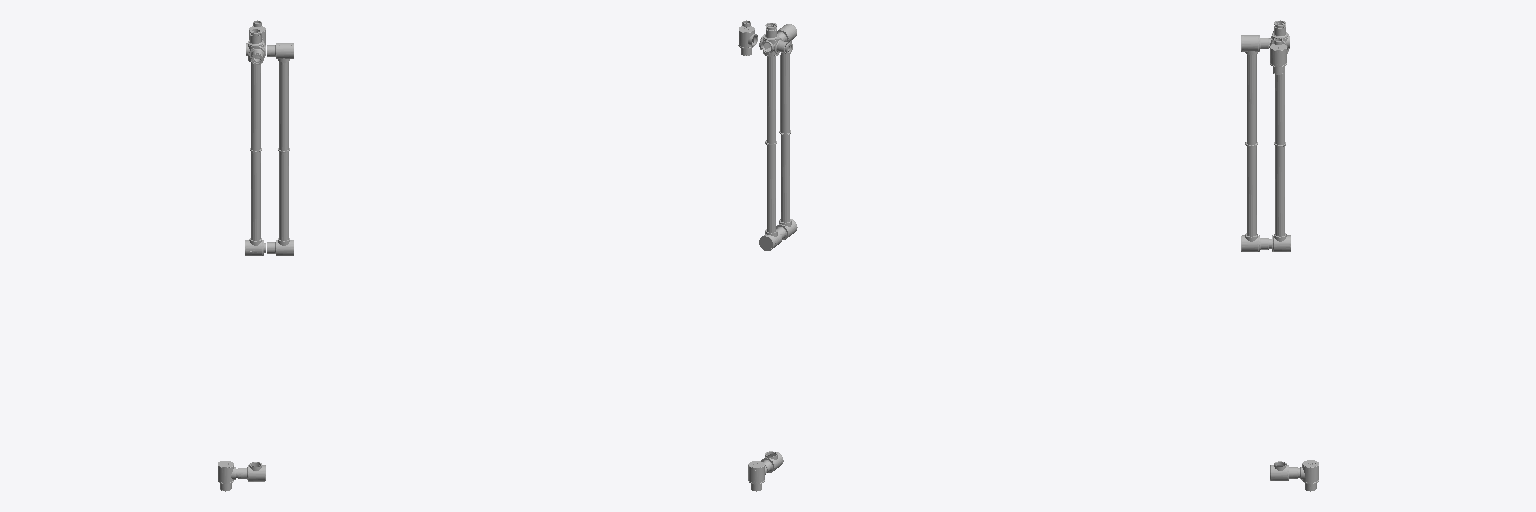
The robot description file, URDF, robot "urdf0":
<?xml version="1.0" encoding="utf-8"?>
<!-- This URDF was automatically created by SolidWorks to URDF Exporter! Originally created by Stephen Brawner ([email redacted]) 
     Commit Version: 1.6.0-4-g7f85cfe  Build Version: 1.6.7995.38578
     For more information, please see http://wiki.ros.org/sw_urdf_exporter -->
<robot
  name="urdf0">
  <link
    name="base_link">
    <!-- <inertial>
      <origin
        xyz="8.72986299132619E-06 0.000110535562543035 0.0443842390944278"
        rpy="0 0 0" />
      <mass
        value="5.02870680905452" />
      <inertia
        ixx="0.0167806415192983"
        ixy="2.58690759696259E-06"
        ixz="-9.70880165009334E-07"
        iyy="0.0168131920532754"
        iyz="-1.22930663997648E-05"
        izz="0.0284237575746704" />
    </inertial> -->
    <visual>
      <origin
        xyz="0 0 0"
        rpy="0 0 0" />
      <geometry>
        <mesh
          filename="package://urdf0/meshes/base_link.STL" />
      </geometry>
      <material
        name="">
        <color
          rgba="0.752941176470588 0.752941176470588 0.752941176470588 1" />
      </material>
    </visual>
    <collision>
      <origin
        xyz="0 0 0"
        rpy="0 0 0" />
      <geometry>
        <mesh
          filename="package://urdf0/meshes/base_link.STL" />
      </geometry>
    </collision>
  </link>
  <link
    name="link_1">
    <inertial>
      <origin
        xyz="-2.04097438563936E-05 0.011301551101616 0.0655223391033291"
        rpy="0 0 0" />
      <mass
        value="55.7444455513422" />
      <inertia
        ixx="0.727810823126991"
        ixy="-6.08303990712885E-06"
        ixz="-2.12903061832592E-07"
        iyy="0.927554282928872"
        iyz="0.0220552256243774"
        izz="1.04521065780087" />
    </inertial>
    <visual>
      <origin
        xyz="0 0 0"
        rpy="0 0 0" />
      <geometry>
        <mesh
          filename="package://urdf0/meshes/Link1.STL" />
      </geometry>
      <material
        name="">
        <color
          rgba="0.752941176470588 0.752941176470588 0.752941176470588 1" />
      </material>
    </visual>
    <collision>
      <origin
        xyz="0 0 0"
        rpy="0 0 0" />
      <geometry>
        <mesh
          filename="package://urdf0/meshes/Link1.STL" />
      </geometry>
    </collision>
  </link>
  <joint
    name="joint1"
    type="continuous">
    <origin
      xyz="0 0 0.3645"
      rpy="3.1416 0 0" />
    <parent
      link="base_link" />
    <child
      link="link_1" />
    <axis
      xyz="0 0 1" />
    <hardware id="0" type="driver">
            <limit lower="-0.0001" upper="0.0001"  vel="3.0" acc="10.0" jerk="150.0" effort="30.0"/>
            <transform ratio="1.0" offset_pos_cnt="-[number redacted]" cnt_per_unit="140184287.42160" torque_per_unit="1.0"
                       user_unit_name="rad"/>
             <inputs name="Inputs">
                <status_word>Statusword</status_word>
                <position_actual_value>Position actual value</position_actual_value>
                <velocity_actual_value>Velocity actual value</velocity_actual_value>
                <torque_actual_value>Torque actual value</torque_actual_value>
                <load_torque_value>Analog Input 1</load_torque_value>
                <secondary_position_value>Auxiliary position actual value</secondary_position_value>
                <secondary_velocity_value>Secondary velocity value</secondary_velocity_value>
            </inputs>
            <outputs name="Outputs">
                <control_word>Controlword</control_word>
                <mode_of_operation>Modes of operation</mode_of_operation>
                <target_position>Target position</target_position>
                <target_velocity>Target velocity</target_velocity>
                <target_torque>Target torque</target_torque>
            </outputs>        
        </hardware>
  </joint>
  <link
    name="link_2">
    <inertial>
      <origin
        xyz="1.2631017255465E-05 -0.00998695022675111 0.099695434986445"
        rpy="0 0 0" />
      <mass
        value="63.0188095750657" />
      <inertia
        ixx="0.765163850790187"
        ixy="4.97111083556097E-06"
        ixz="5.24185415367775E-06"
        iyy="0.964838451945914"
        iyz="-0.0220552256243779"
        izz="1.11446804310499" />
    </inertial>
    <visual>
      <origin
        xyz="0 0 0"
        rpy="0 0 0" />
      <geometry>
        <mesh
          filename="package://urdf0/meshes/Link2.STL" />
      </geometry>
      <material
        name="">
        <color
          rgba="0.752941176470588 0.752941176470588 0.752941176470588 1" />
      </material>
    </visual>
    <collision>
      <origin
        xyz="0 0 0"
        rpy="0 0 0" />
      <geometry>
        <mesh
          filename="package://urdf0/meshes/Link2.STL" />
      </geometry>
    </collision>
  </link>
  <joint
    name="joint2"
    type="continuous">
    <origin
      xyz="0 0.6115 0"
      rpy="1.5708 0 0" />
    <parent
      link="link_1" />
    <child
      link="link_2" />
    <axis
      xyz="0 0 1" />
    <hardware id="1" type="driver">
            <!-- <limit lower="-2.22" upper="2.22" vel="3.0" acc="10.0" jerk="150.0" effort="30.0" /> -->
            <!-- <transform ratio="1.0" offset_pos_cnt="6179790" cnt_per_unit="140184287.42160" torque_per_unit="1.0" user_unit_name="rad"/> -->
            <limit lower="-0.001" upper="0.001" vel="3.0" acc="10.0" jerk="150.0" effort="30.0" />
            <transform ratio="1.0" offset_pos_cnt="14293200" cnt_per_unit="140184287.42160" torque_per_unit="1.0" user_unit_name="rad"/>
            <inputs name="Inputs">
                <status_word>Statusword</status_word>
                <position_actual_value>Position actual value</position_actual_value>
                <velocity_actual_value>Velocity actual value</velocity_actual_value>
                <torque_actual_value>Torque actual value</torque_actual_value>
                <load_torque_value>Analog Input 1</load_torque_value>
                <secondary_position_value>Auxiliary position actual value</secondary_position_value>
                <secondary_velocity_value>Secondary velocity value</secondary_velocity_value>
            </inputs>
            <outputs name="Outputs">
                <control_word>Controlword</control_word>
                <mode_of_operation>Modes of operation</mode_of_operation>
                <target_position>Target position</target_position>
                <target_velocity>Target velocity</target_velocity>
                <target_torque>Target torque</target_torque>
            </outputs>  
        </hardware>
  </joint>
  <link
    name="link_3">
    <inertial>
      <origin
        xyz="7.95950088592247E-05 -0.00352653187066096 -2.49589544552404"
        rpy="0 0 0" />
      <mass
        value="212.870919787655" />
      <inertia
        ixx="27.5783375000673"
        ixy="0.00110729799537331"
        ixz="0.000240364566676525"
        iyy="28.0743279332976"
        iyz="9.78461217462477E-05"
        izz="2.97692676274956" />
    </inertial>
    <visual>
      <origin
        xyz="0 0 0"
        rpy="0 0 0" />
      <geometry>
        <mesh
          filename="package://urdf0/meshes/Link3.STL" />
      </geometry>
      <material
        name="">
        <color
          rgba="0.752941176470588 0.752941176470588 0.752941176470588 1" />
      </material>
    </visual>
    <collision>
      <origin
        xyz="0 0 0"
        rpy="0 0 0" />
      <geometry>
        <mesh
          filename="package://urdf0/meshes/Link3.STL" />
      </geometry>
    </collision>
  </link>
  <joint
    name="joint3"
    type="continuous">
    <origin
      xyz="0 -5.0815 0"
      rpy="1.5708 0 0" />
    <parent
      link="link_2" />
    <child
      link="link_3" />
    <axis
      xyz="0 0 -1" />
    <hardware id="2" type="driver">
            <limit lower="-0.0001" upper="0.0001" vel="3.0" acc="10.0" jerk="150.0" effort="30.0" />
            <transform ratio="1.0" offset_pos_cnt="20729290" cnt_per_unit="140184287.42160" torque_per_unit="1.0" user_unit_name="rad"/>
            <inputs name="Inputs">
                <status_word>Statusword</status_word>
                <position_actual_value>Position actual value</position_actual_value>
                <velocity_actual_value>Velocity actual value</velocity_actual_value>
                <torque_actual_value>Torque actual value</torque_actual_value>
                <load_torque_value>Analog Input 1</load_torque_value>
                <secondary_position_value>Auxiliary position actual value</secondary_position_value>
                <secondary_velocity_value>Secondary velocity value</secondary_velocity_value>
            </inputs>
            <outputs name="Outputs">
                <control_word>Controlword</control_word>
                <mode_of_operation>Modes of operation</mode_of_operation>
                <target_position>Target position</target_position>
                <target_velocity>Target velocity</target_velocity>
                <target_torque>Target torque</target_torque>
            </outputs>  
        </hardware>
  </joint>
  <link
    name="link_4">
    <inertial>
      <origin
        xyz="2.22 1.76550604566529E-13 -0.521128276464802"
        rpy="0 0 0" />
      <mass
        value="226.927653025662" />
      <inertia
        ixx="2.91047984976881"
        ixy="-9.94222168871076E-06"
        ixz="3.14603126799796E-15"
        iyy="27.6919474025717"
        iyz="1.15288419593986E-14"
        izz="28.3905557872013" />
    </inertial>
    <visual>
      <origin
        xyz="0 0 0"
        rpy="0 0 0" />
      <geometry>
        <mesh
          filename="package://urdf0/meshes/Link4.STL" />
      </geometry>
      <material
        name="">
        <color
          rgba="0.752941176470588 0.752941176470588 0.752941176470588 1" />
      </material>
    </visual>
    <collision>
      <origin
        xyz="0 0 0"
        rpy="0 0 0" />
      <geometry>
        <mesh
          filename="package://urdf0/meshes/Link4.STL" />
      </geometry>
    </collision>
  </link>
  <joint
    name="joint4"
    type="continuous">
    <origin
      xyz="0 0 0"
      rpy="1.5708 -1.5708 0" />
    <parent
      link="link_3" />
    <child
      link="link_4" />
    <axis
      xyz="0 0 -1" />
    <hardware id="3" type="driver">
            <limit lower="-2.23" upper="2.23" vel="3.0" acc="10.0" jerk="150.0" effort="30.0" />
            <transform ratio="1.0" offset_pos_cnt="24045160" cnt_per_unit="140184287.42160" torque_per_unit="1.0" user_unit_name="rad"/>
            <inputs name="Inputs">
                <status_word>Statusword</status_word>
                <position_actual_value>Position actual value</position_actual_value>
                <velocity_actual_value>Velocity actual value</velocity_actual_value>
                <torque_actual_value>Torque actual value</torque_actual_value>
                <load_torque_value>Analog Input 1</load_torque_value>
                <secondary_position_value>Auxiliary position actual value</secondary_position_value>
                <secondary_velocity_value>Secondary velocity value</secondary_velocity_value>
            </inputs>
            <outputs name="Outputs">
                <control_word>Controlword</control_word>
                <mode_of_operation>Modes of operation</mode_of_operation>
                <target_position>Target position</target_position>
                <target_velocity>Target velocity</target_velocity>
                <target_torque>Target torque</target_torque>
            </outputs>  
        </hardware>
  </joint>
  <link
    name="link_5">
    <inertial>
      <origin
        xyz="-1.26310178133507E-05 0.0996954349864509 -0.00998695022675433"
        rpy="0 0 0" />
      <mass
        value="63.0188095750638" />
      <inertia
        ixx="0.765163850790159"
        ixy="-5.24185412364793E-06"
        ixz="-4.97111085848088E-06"
        iyy="1.11446804310497"
        iyz="-0.0220552256243783"
        izz="0.964838451945891" />
    </inertial>
    <visual>
      <origin
        xyz="0 0 0"
        rpy="0 0 0" />
      <geometry>
        <mesh
          filename="package://urdf0/meshes/Link5.STL" />
      </geometry>
      <material
        name="">
        <color
          rgba="0.752941176470588 0.752941176470588 0.752941176470588 1" />
      </material>
    </visual>
    <collision>
      <origin
        xyz="0 0 0"
        rpy="0 0 0" />
      <geometry>
        <mesh
          filename="package://urdf0/meshes/Link5.STL" />
      </geometry>
    </collision>
  </link>
  <joint
    name="joint5"
    type="continuous">
    <origin
      xyz="4.44 0 0.035"
      rpy="0 0 -3.1415926535" />
    <parent
      link="link_4" />
    <child
      link="link_5" />
    <axis
      xyz="0 0 1" />
    <hardware id="4" type="driver">
            <limit lower="-2.71" upper="2.71" vel="3.0" acc="10.0" jerk="150.0" effort="30.0" />
            <transform ratio="1.0" offset_pos_cnt="-[number redacted]" cnt_per_unit="140184287.42160" torque_per_unit="1.0" user_unit_name="rad"/>
            <inputs name="Inputs">
                <status_word>Statusword</status_word>
                <position_actual_value>Position actual value</position_actual_value>
                <velocity_actual_value>Velocity actual value</velocity_actual_value>
                <torque_actual_value>Torque actual value</torque_actual_value>
                <load_torque_value>Analog Input 1</load_torque_value>
                <secondary_position_value>Auxiliary position actual value</secondary_position_value>
                <secondary_velocity_value>Secondary velocity value</secondary_velocity_value>
            </inputs>
            <outputs name="Outputs">
                <control_word>Controlword</control_word>
                <mode_of_operation>Modes of operation</mode_of_operation>
                <target_position>Target position</target_position>
                <target_velocity>Target velocity</target_velocity>
                <target_torque>Target torque</target_torque>
            </outputs>  
        </hardware>
  </joint>
  <link
    name="link_6">
    <inertial>
      <origin
        xyz="2.04097449541529E-05 -0.0655223391029839 -0.0113015511016092"
        rpy="0 0 0" />
      <mass
        value="55.7444455513433" />
      <inertia
        ixx="0.727810823126995"
        ixy="-2.12903042217403E-07"
        ixz="-6.08303989137093E-06"
        iyy="1.04521065780089"
        iyz="0.0220552256243767"
        izz="0.927554282928868" />
    </inertial>
    <visual>
      <origin
        xyz="0 0 0"
        rpy="0 0 0" />
      <geometry>
        <mesh
          filename="package://urdf0/meshes/Link6.STL" />
      </geometry>
      <material
        name="">
        <color
          rgba="0.752941176470588 0.752941176470588 0.752941176470588 1" />
      </material>
    </visual>
    <collision>
      <origin
        xyz="0 0 0"
        rpy="0 0 0" />
      <geometry>
        <mesh
          filename="package://urdf0/meshes/Link6.STL" />
      </geometry>
    </collision>
  </link>
  <joint
    name="joint6"
    type="continuous">
    <origin
      xyz="0 0.6115 0"
      rpy="-1.5708 -1.5708 0" />
    <parent
      link="link_5" />
    <child
      link="link_6" />
    <axis
      xyz="0 0 1" />
    <hardware id="5" type="driver">
            <limit lower="-0.0001" upper="0.0001" vel="3.0" acc="10.0" jerk="150.0" effort="30.0" />
            <transform ratio="1.0" offset_pos_cnt="-1056817" cnt_per_unit="140184287.42160" torque_per_unit="1.0" user_unit_name="rad"/>
            <inputs name="Inputs">
                <status_word>Statusword</status_word>
                <position_actual_value>Position actual value</position_actual_value>
                <velocity_actual_value>Velocity actual value</velocity_actual_value>
                <torque_actual_value>Torque actual value</torque_actual_value>
                <load_torque_value>Analog Input 1</load_torque_value>
                <secondary_position_value>Auxiliary position actual value</secondary_position_value>
                <secondary_velocity_value>Secondary velocity value</secondary_velocity_value>
            </inputs>
            <outputs name="Outputs">
                <control_word>Controlword</control_word>
                <mode_of_operation>Modes of operation</mode_of_operation>
                <target_position>Target position</target_position>
                <target_velocity>Target velocity</target_velocity>
                <target_torque>Target torque</target_torque>
            </outputs>  
        </hardware>
  </joint>
  <link
    name="link_7">
    <inertial>
      <origin
        xyz="-6.2551368357866E-05 9.15513375767674E-05 -0.0443842390944282"
        rpy="0 0 0" />
      <mass
        value="5.02870680905465" />
      <inertia
        ixx="0.0167909264766882"
        ixy="-1.5352283132167E-05"
        ixz="-6.95656770372791E-06"
        iyy="0.0168029070958863"
        iyz="1.01817609272676E-05"
        izz="0.028423757574671" />
    </inertial>
    <visual>
      <origin
        xyz="0 0 0"
        rpy="0 0 0" />
      <geometry>
        <mesh
          filename="package://urdf0/meshes/Link7.STL" />
      </geometry>
      <material
        name="">
        <color
          rgba="0.752941176470588 0.752941176470588 0.752941176470588 1" />
      </material>
    </visual>
    <collision>
      <origin
        xyz="0 0 0"
        rpy="0 0 0" />
      <geometry>
        <mesh
          filename="package://urdf0/meshes/Link7.STL" />
      </geometry>
    </collision>
  </link>
  <joint
    name="joint7"
    type="continuous">
    <origin
      xyz="0 -0.3645 0"
      rpy="1.5708 0 0" />
    <parent
      link="link_6" />
    <child
      link="link_7" />
    <axis
      xyz="0 0 1" />
    <hardware id="6" type="driver">
            <limit lower="-2.84" upper="2.84" vel="3.0" acc="10.0" jerk="150.0" effort="30.0" />
            <transform ratio="1.0" offset_pos_cnt="0" cnt_per_unit="140184287.42160" torque_per_unit="1.0" user_unit_name="rad"/>
            <inputs name="Inputs">
                <status_word>Statusword</status_word>
                <position_actual_value>Position actual value</position_actual_value>
                <velocity_actual_value>Velocity actual value</velocity_actual_value>
                <torque_actual_value>Torque actual value</torque_actual_value>
                <load_torque_value>Analog Input 1</load_torque_value>
                <secondary_position_value>Auxiliary position actual value</secondary_position_value>
                <secondary_velocity_value>Secondary velocity value</secondary_velocity_value>
            </inputs>
            <outputs name="Outputs">
                <control_word>Controlword</control_word>
                <mode_of_operation>Modes of operation</mode_of_operation>
                <target_position>Target position</target_position>
                <target_velocity>Target velocity</target_velocity>
                <target_torque>Target torque</target_torque>
            </outputs>  
        </hardware>
  </joint>
</robot>

--- What the picture shows (computed from the rendered views, not written in the file) ---
The picture shows the robot from 3 angles, left to right: view 1: azimuth 90°, elevation 25°; view 2: azimuth 150°, elevation 25°; view 3: azimuth 270°, elevation 25°; orthographic projection.
Robot: urdf0 — 8 links, 7 joints (7 continuous); root link base_link; default pose: every joint at zero.
Visible links, largest first — view 1: link_4, link_3; view 2: link_3, link_4; view 3: link_4, link_3.
Link boxes in pixels (bbox=[...]): link_4: bbox=[264, 43, 293, 255]; link_3: bbox=[245, 28, 263, 255]; link_3: bbox=[759, 23, 781, 250]; link_4: bbox=[776, 24, 797, 239]; link_4: bbox=[1241, 35, 1271, 251]; link_3: bbox=[1272, 20, 1290, 251].
Size in the robot's own frame: 1.2 by 1.57 by 10.33 metres.
Meshes: 8 distinct files referenced, 8 mesh visuals loaded (8 binary STL).
